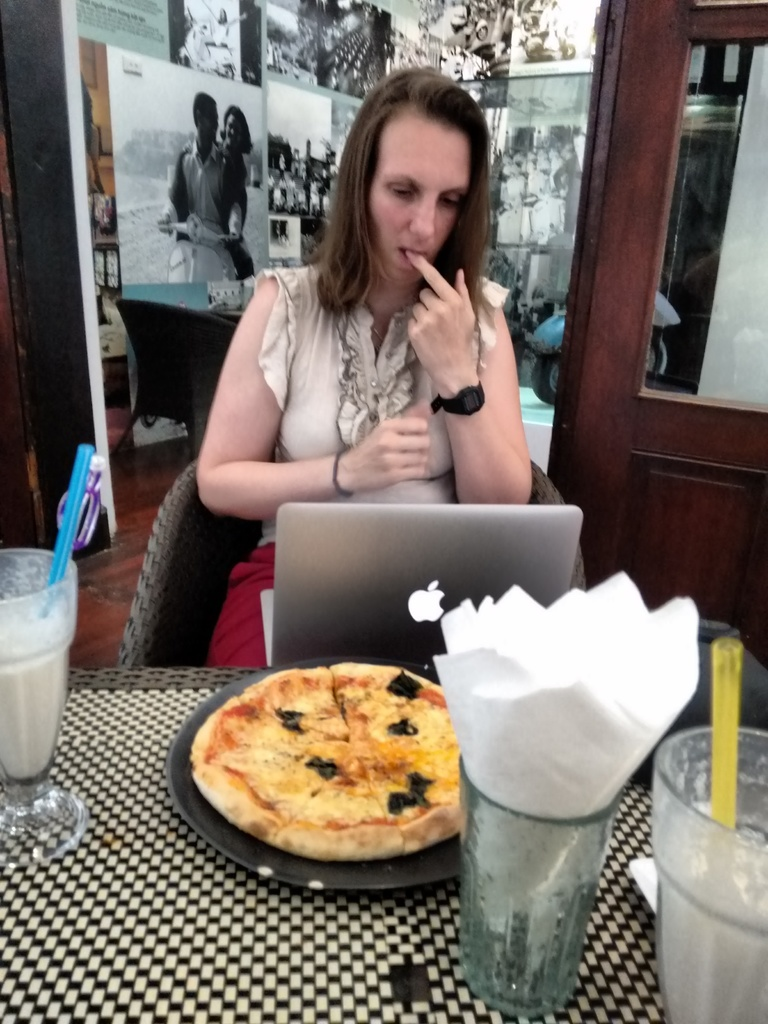Pizza: (197, 662, 471, 874)
